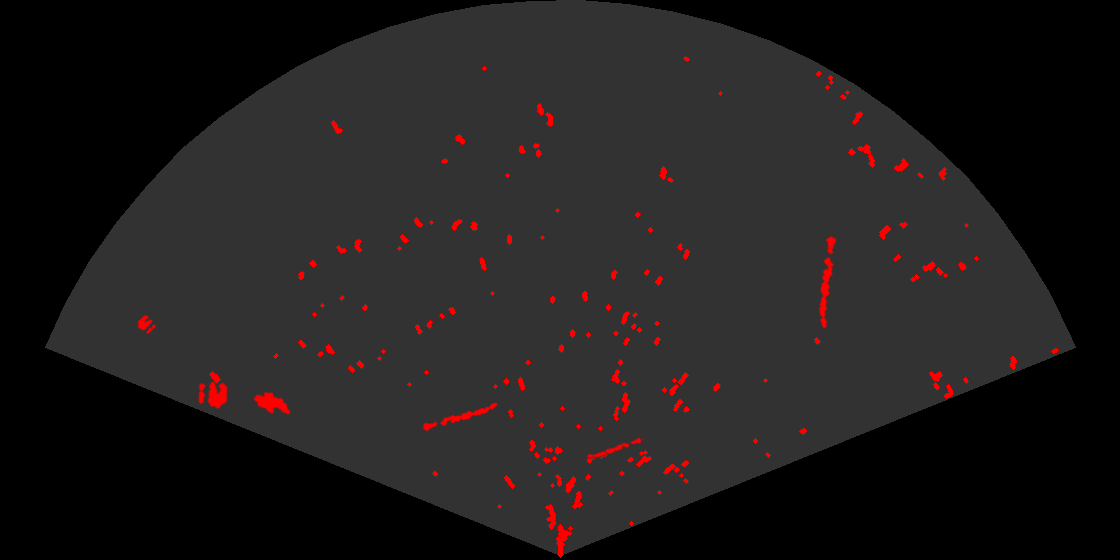AUV: (252, 390, 292, 416)
ball: (197, 380, 229, 411), (136, 314, 158, 336)
chain: (420, 401, 500, 433), (817, 232, 838, 329), (584, 435, 645, 460)
